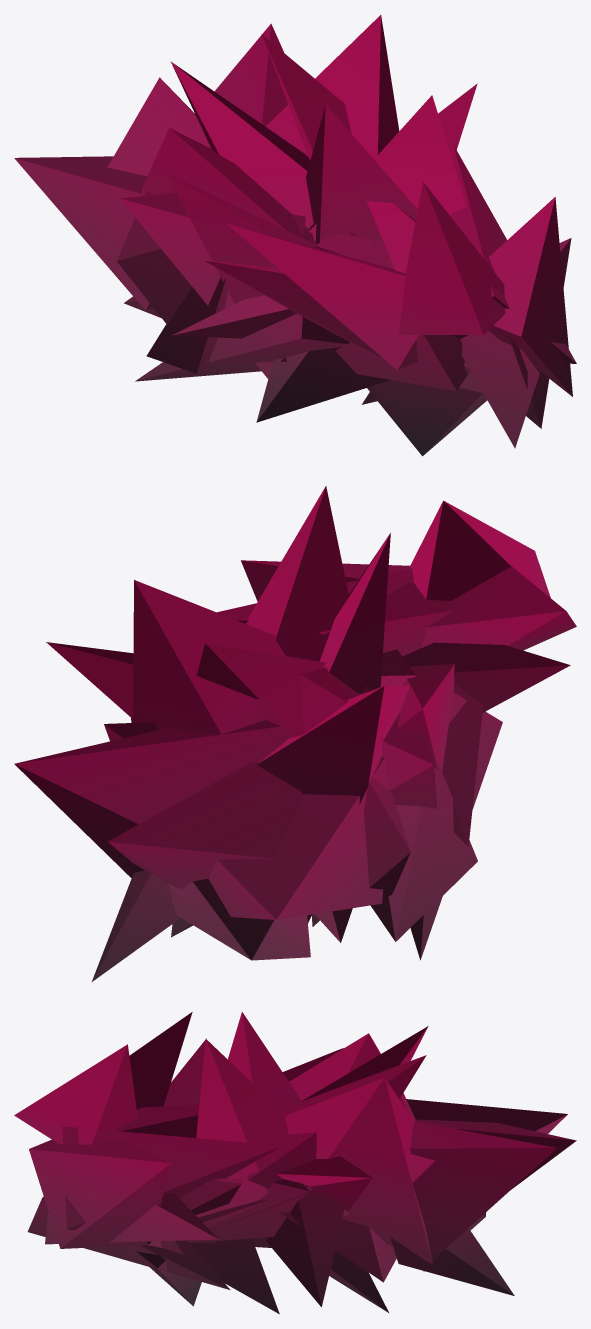
File: SM_Pieu.FBX
The picture shows the model from 3 angles, top to bottom: view 1: azimuth 30°, elevation 25°; view 2: azimuth 150°, elevation 25°; view 3: azimuth 270°, elevation 25°; orthographic projection. The views are drawn at different scales.
Visible parts, largest first — view 1: Pyramid008; view 2: Pyramid008; view 3: Pyramid008.
Boxes of the visible parts, x1,y1,x2,y2 form: Pyramid008: [14, 15, 576, 456]; Pyramid008: [14, 486, 576, 981]; Pyramid008: [14, 1012, 576, 1314].
Bounding box in the file's own units: 588 × 520 × 965.
